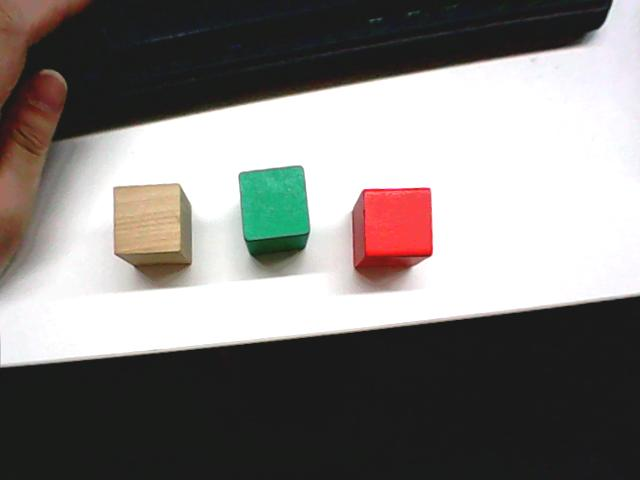green_box: (235, 161, 313, 258)
raw_box: (109, 179, 194, 269)
red_box: (349, 182, 436, 271)
